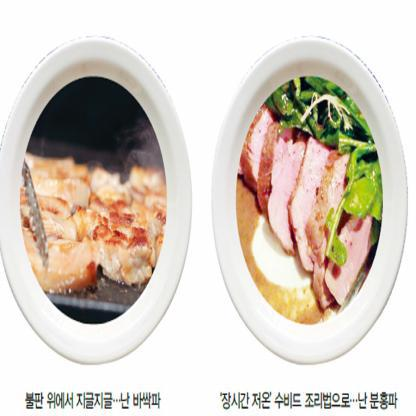pork: (31, 152, 165, 304)
